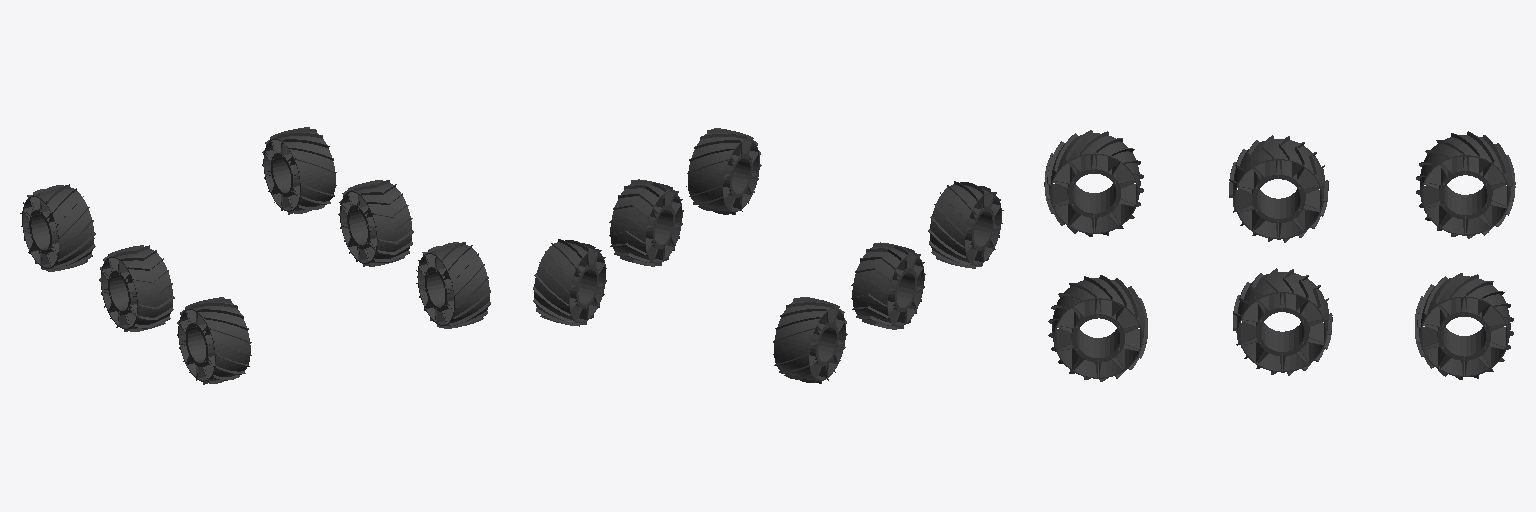
URDF robot description (roar_description):
<?xml version="1.0" encoding="utf-8"?>
<!-- This URDF was automatically created by SolidWorks to URDF Exporter! Originally created by [author] ([email redacted]) 
     Commit Version: 1.6.0-4-g7f85cfe  Build Version: 1.6.7995.38578
     For more information, please see http://wiki.ros.org/sw_urdf_exporter -->
<robot
  name="roar_description">
  <link
    name="base_link">
    <inertial>
      <origin
        xyz="0.4442 0.36256 0.70157"
        rpy="0 0 0" />
      <mass
        value="28.793" />
      <inertia
        ixx="0.069395"
        ixy="1.9598E-05"
        ixz="0.00028928"
        iyy="0.11097"
        iyz="-0.002376"
        izz="0.070512" />
    </inertial>
    <visual>
      <origin
        xyz="0 0 0"
        rpy="0 0 0" />
      <geometry>
        <mesh
          filename="package://roar_description/meshes/base_link.STL" />
      </geometry>
      <material
        name="">
        <color
          rgba="0.79216 0.81961 0.93333 1" />
      </material>
    </visual>
    <collision>
      <origin
        xyz="0 0 0"
        rpy="0 0 0" />
      <geometry>
        <mesh
          filename="package://roar_description/meshes/base_link.STL" />
      </geometry>
    </collision>
  </link>
  <link
    name="wheel_lhs_front">
    <inertial>
      <origin
        xyz="6.6613E-16 0.00030574 0.060016"
        rpy="0 0 0" />
      <mass
        value="1.5517" />
      <inertia
        ixx="0.0080032"
        ixy="-5.5461E-17"
        ixz="-1.9553E-16"
        iyy="0.0080032"
        iyz="-1.0971E-10"
        izz="0.012594" />
    </inertial>
    <visual>
      <origin
        xyz="0 0 0"
        rpy="0 0 0" />
      <geometry>
        <mesh
          filename="package://roar_description/meshes/wheel_lhs_front.STL" />
      </geometry>
      <material
        name="">
        <color
          rgba="0.29804 0.29804 0.29804 1" />
      </material>
    </visual>
    <collision>
      <origin
        xyz="0 0 0"
        rpy="0 0 0" />
      <geometry>
        <mesh
          filename="package://roar_description/meshes/wheel_lhs_front.STL" />
      </geometry>
    </collision>
  </link>
  <joint
    name="wheel_lhs_front_joint"
    type="continuous">
    <origin
      xyz="0.80014 -1.1945 0.15914"
      rpy="-1.5708 0 -1.5708" />
    <parent
      link="base_link" />
    <child
      link="wheel_lhs_front" />
    <axis
      xyz="0 0 1" />
  </joint>
  <link
    name="wheel_lhs_mid">
    <inertial>
      <origin
        xyz="0 0.0003101 0.060006"
        rpy="0 0 0" />
      <mass
        value="1.5977" />
      <inertia
        ixx="0.0083678"
        ixy="-4.1693E-18"
        ixz="-1.14E-16"
        iyy="0.0083678"
        iyz="-6.2532E-14"
        izz="0.013245" />
    </inertial>
    <visual>
      <origin
        xyz="0 0 0"
        rpy="0 0 0" />
      <geometry>
        <mesh
          filename="package://roar_description/meshes/wheel_lhs_mid.STL" />
      </geometry>
      <material
        name="">
        <color
          rgba="0.29804 0.29804 0.29804 1" />
      </material>
    </visual>
    <collision>
      <origin
        xyz="0 0 0"
        rpy="0 0 0" />
      <geometry>
        <mesh
          filename="package://roar_description/meshes/wheel_lhs_mid.STL" />
      </geometry>
    </collision>
  </link>
  <joint
    name="wheel_lhs_mid_joint"
    type="continuous">
    <origin
      xyz="0.80015 -0.73611 0.17636"
      rpy="-1.5708 0 -1.5708" />
    <parent
      link="base_link" />
    <child
      link="wheel_lhs_mid" />
    <axis
      xyz="0 0 1" />
  </joint>
  <link
    name="wheel_lhs_back">
    <inertial>
      <origin
        xyz="7.7715611723761E-16 0.000305735305072052 0.0617344149234701"
        rpy="0 0 0" />
      <mass
        value="1.55166626304694" />
      <inertia
        ixx="0.00800333368012893"
        ixy="7.14721474562879E-17"
        ixz="9.73552931536366E-17"
        iyy="0.00800325326915817"
        iyz="2.69491777256155E-12"
        izz="0.0125934306153833" />
    </inertial>
    <visual>
      <origin
        xyz="0 0 0"
        rpy="0 0 0" />
      <geometry>
        <mesh
          filename="package://roar_description/meshes/wheel_lhs_back.STL" />
      </geometry>
      <material
        name="">
        <color
          rgba="0.298039215686275 0.298039215686275 0.298039215686275 1" />
      </material>
    </visual>
    <collision>
      <origin
        xyz="0 0 0"
        rpy="0 0 0" />
      <geometry>
        <mesh
          filename="package://roar_description/meshes/wheel_lhs_back.STL" />
      </geometry>
    </collision>
  </link>
  <joint
    name="wheel_lhs_back_joint"
    type="continuous">
    <origin
      xyz="0.79842 -0.28407 0.16418"
      rpy="-1.5708 0 -1.5708" />
    <parent
      link="base_link" />
    <child
      link="wheel_lhs_back" />
    <axis
      xyz="0 0 1" />
  </joint>
  <link
    name="wheel_rhs_front">
    <inertial>
      <origin
        xyz="-2.22044604925031E-16 0.000305735305065946 0.0380568831428593"
        rpy="0 0 0" />
      <mass
        value="1.55166626304696" />
      <inertia
        ixx="0.00800333368012877"
        ixy="2.25125453215698E-16"
        ixz="-2.35927699145638E-16"
        iyy="0.00800325326915832"
        iyz="2.69490513673813E-12"
        izz="0.0125934306153834" />
    </inertial>
    <visual>
      <origin
        xyz="0 0 0"
        rpy="0 0 0" />
      <geometry>
        <mesh
          filename="package://roar_description/meshes/wheel_rhs_front.STL" />
      </geometry>
      <material
        name="">
        <color
          rgba="0.298039215686275 0.298039215686275 0.298039215686275 1" />
      </material>
    </visual>
    <collision>
      <origin
        xyz="0 0 0"
        rpy="0 0 0" />
      <geometry>
        <mesh
          filename="package://roar_description/meshes/wheel_rhs_front.STL" />
      </geometry>
    </collision>
  </link>
  <joint
    name="wheel_rhs_front_joint"
    type="continuous">
    <origin
      xyz="0 -1.2043 0.17306"
      rpy="-1.5708 0 -1.5708" />
    <parent
      link="base_link" />
    <child
      link="wheel_rhs_front" />
    <axis
      xyz="0 0 1" />
  </joint>
  <link
    name="wheel_rhs_mid">
    <inertial>
      <origin
        xyz="-2.22044604925031E-15 0.000310098538655351 0.0380616948688966"
        rpy="0 0 0" />
      <mass
        value="1.59766537689161" />
      <inertia
        ixx="0.00836783341696606"
        ixy="-7.04632089752379E-17"
        ixz="-9.13367834653743E-17"
        iyy="0.00836775197998561"
        iyz="-6.26321611541643E-14"
        izz="0.0132446797996266" />
    </inertial>
    <visual>
      <origin
        xyz="0 0 0"
        rpy="0 0 0" />
      <geometry>
        <mesh
          filename="package://roar_description/meshes/wheel_rhs_mid.STL" />
      </geometry>
      <material
        name="">
        <color
          rgba="0.298039215686275 0.298039215686275 0.298039215686275 1" />
      </material>
    </visual>
    <collision>
      <origin
        xyz="0 0 0"
        rpy="0 0 0" />
      <geometry>
        <mesh
          filename="package://roar_description/meshes/wheel_rhs_mid.STL" />
      </geometry>
    </collision>
  </link>
  <joint
    name="wheel_rhs_mid_joint"
    type="continuous">
    <origin
      xyz="0 -0.74584 0.15801"
      rpy="-1.5708 0 -1.5708" />
    <parent
      link="base_link" />
    <child
      link="wheel_rhs_mid" />
    <axis
      xyz="0 0 1" />
  </joint>
  <link
    name="wheel_rhs_back">
    <inertial>
      <origin
        xyz="-1.27675647831893E-15 0.000305735786539946 0.0380621611704761"
        rpy="0 0 0" />
      <mass
        value="1.55167119278225" />
      <inertia
        ixx="0.008003234032902"
        ixy="-1.43861276631449E-16"
        ixz="-9.48980482108166E-17"
        iyy="0.00800315362181852"
        iyz="-1.09712706156286E-10"
        izz="0.0125935069824439" />
    </inertial>
    <visual>
      <origin
        xyz="0 0 0"
        rpy="0 0 0" />
      <geometry>
        <mesh
          filename="package://roar_description/meshes/wheel_rhs_back.STL" />
      </geometry>
      <material
        name="">
        <color
          rgba="0.298039215686275 0.298039215686275 0.298039215686275 1" />
      </material>
    </visual>
    <collision>
      <origin
        xyz="0 0 0"
        rpy="0 0 0" />
      <geometry>
        <mesh
          filename="package://roar_description/meshes/wheel_rhs_back.STL" />
      </geometry>
    </collision>
  </link>
  <joint
    name="wheel_rhs_back_joint"
    type="continuous">
    <origin
      xyz="0 -0.281 0.16856"
      rpy="-1.5708 0 -1.5708" />
    <parent
      link="base_link" />
    <child
      link="wheel_rhs_back" />
    <axis
      xyz="0 0 1" />
  </joint>
</robot>

--- Render facts (derived) ---
Views: 3 orthographic renders of the robot side by side, from view 1: azimuth 30°, elevation 25°; view 2: azimuth 150°, elevation 25°; view 3: azimuth 270°, elevation 25°.
Model roar_description with 7 links and 6 joints (6 continuous), rooted at base_link, posed all joints at 0.
Visible links, largest first — view 1: wheel_lhs_mid, wheel_rhs_mid, wheel_lhs_back, wheel_lhs_front, wheel_rhs_front, wheel_rhs_back; view 2: wheel_lhs_mid, wheel_rhs_mid, wheel_rhs_back, wheel_rhs_front, wheel_lhs_back, wheel_lhs_front; view 3: wheel_rhs_front, wheel_lhs_front, wheel_lhs_back, wheel_rhs_back, wheel_lhs_mid, wheel_rhs_mid.
Boxes of the visible links, bbox=[...] form: wheel_lhs_mid: bbox=[338, 180, 413, 266]; wheel_rhs_mid: bbox=[99, 245, 174, 331]; wheel_lhs_back: bbox=[262, 127, 336, 214]; wheel_lhs_front: bbox=[416, 242, 490, 328]; wheel_rhs_front: bbox=[177, 297, 251, 384]; wheel_rhs_back: bbox=[20, 184, 95, 271]; wheel_lhs_mid: bbox=[609, 179, 683, 266]; wheel_rhs_mid: bbox=[851, 242, 925, 329]; wheel_rhs_back: bbox=[773, 297, 847, 383]; wheel_rhs_front: bbox=[928, 181, 1003, 268]; wheel_lhs_back: bbox=[533, 239, 606, 326]; wheel_lhs_front: bbox=[686, 128, 761, 214]; wheel_rhs_front: bbox=[1044, 130, 1143, 236]; wheel_lhs_front: bbox=[1048, 275, 1147, 381]; wheel_lhs_back: bbox=[1415, 273, 1513, 379]; wheel_rhs_back: bbox=[1416, 131, 1515, 238]; wheel_lhs_mid: bbox=[1233, 268, 1332, 375]; wheel_rhs_mid: bbox=[1229, 135, 1328, 242].
Bounding box of the posed robot: 0.9421 × 1.17 × 0.2683 m (x, y, z).
6 mesh visuals loaded from 7 distinct referenced files (6 binary STL); not drawn: 1 (reference not matched to a file when rendering).